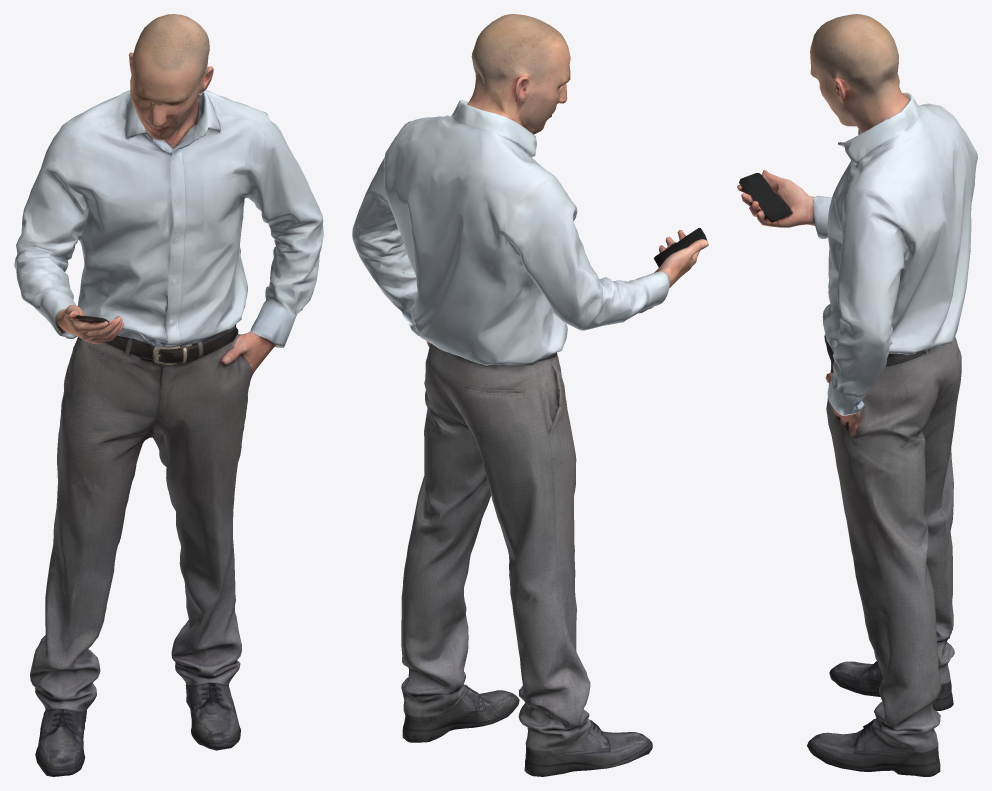
The model's file is man.dae.
3 views of the same model, side by side, from view 1: azimuth 30°, elevation 25°; view 2: azimuth 150°, elevation 25°; view 3: azimuth 270°, elevation 25° (orthographic).
Parts seen in each view (by area): view 1: skpA75D; view 2: skpA75D; view 3: skpA75D.
Part boxes in pixels (x1=…): skpA75D: x1=14, y1=14, x2=323, y2=776; skpA75D: x1=352, y1=14, x2=708, y2=776; skpA75D: x1=737, y1=14, x2=977, y2=776.
Bounding box in the file's own units: 28.8 × 19.76 × 65.35.
Materials: 1 (1 with a texture image).
